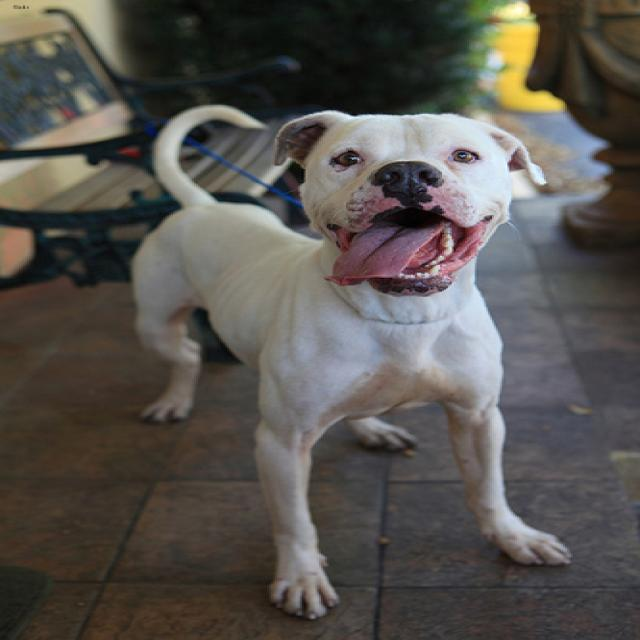dog-american_bulldog: (113, 92, 578, 628)
